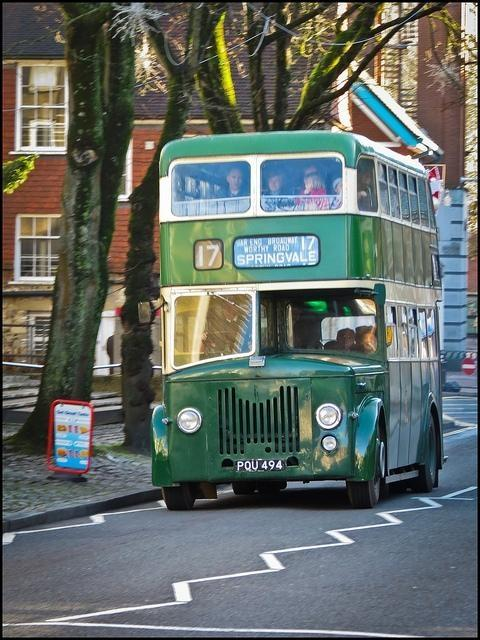bus: (154, 132, 452, 515)
